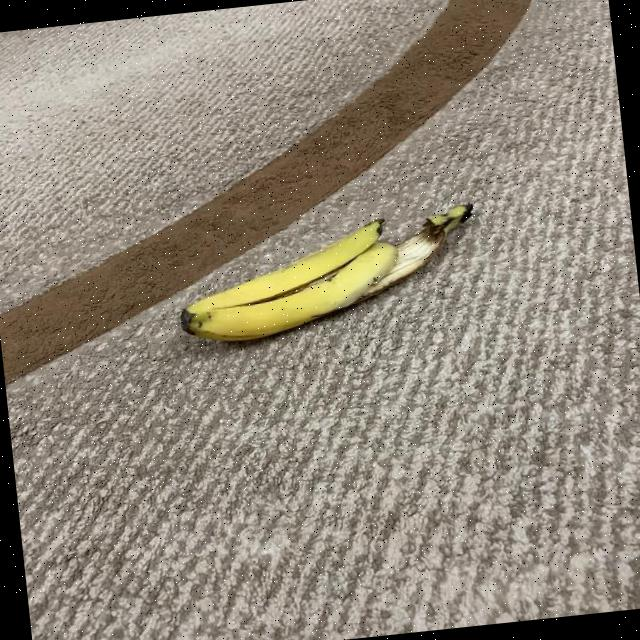banana-peel: (168, 200, 484, 348)
